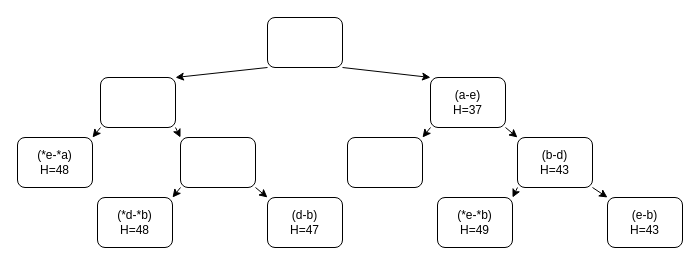
Image size: 700x265. Some labels were removed from this diagram. The box of each missing label's shape, as (x1, y1, x2, y2) in pixels:
(*a-*e) H=41: (100, 76, 176, 128)
(*b-*d) H=44: (346, 136, 422, 188)
(e-a) H=41: (180, 136, 256, 188)
Корень H=30: (266, 16, 342, 68)
